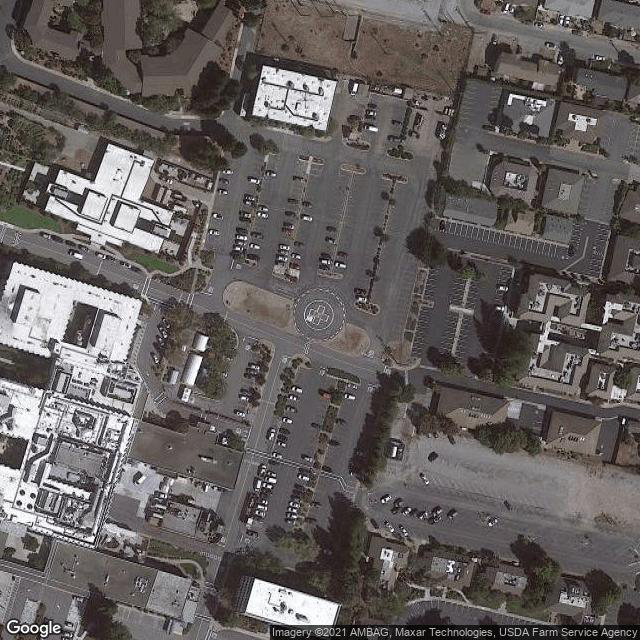Helipad: (301, 296, 336, 329)
